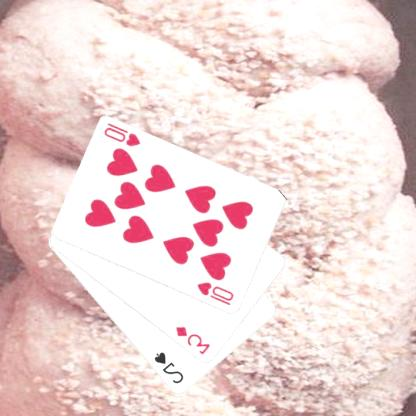10H: (196, 280, 237, 307), (103, 121, 144, 148)
2S: (153, 349, 187, 385)
3D: (174, 324, 214, 356)
